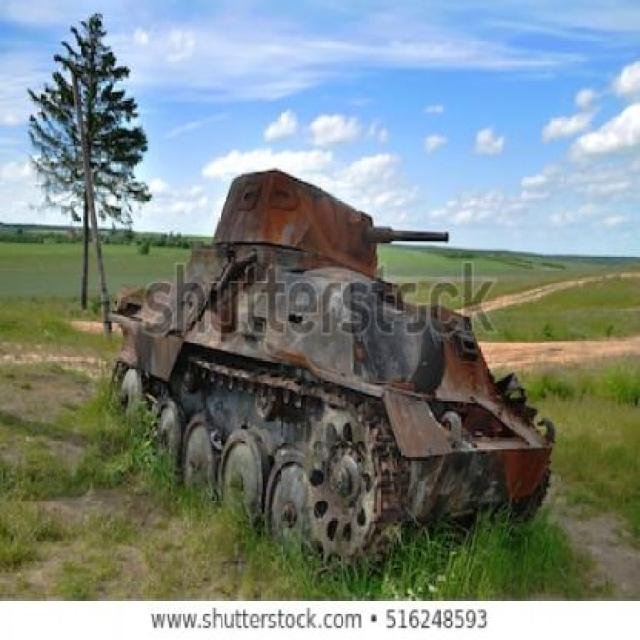corrosion: (113, 171, 559, 558)
